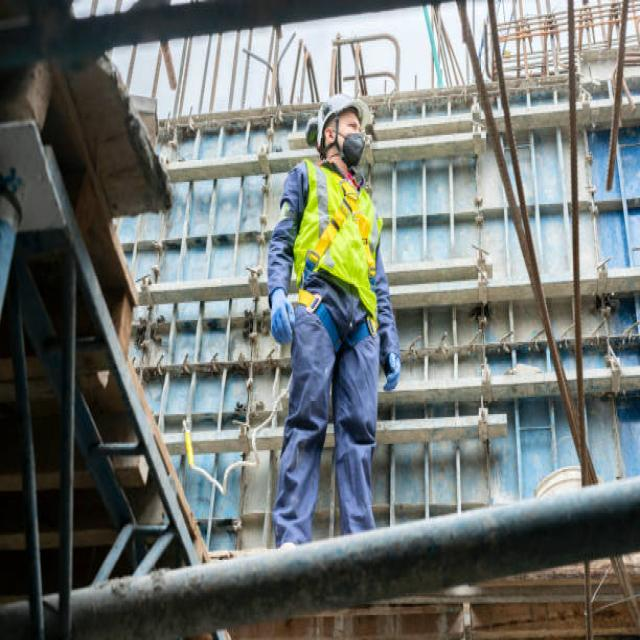Gloves: (267, 282, 299, 348), (376, 343, 407, 397)
Vest: (294, 157, 384, 323)
helmet: (312, 92, 374, 152)
person: (264, 92, 404, 549)
